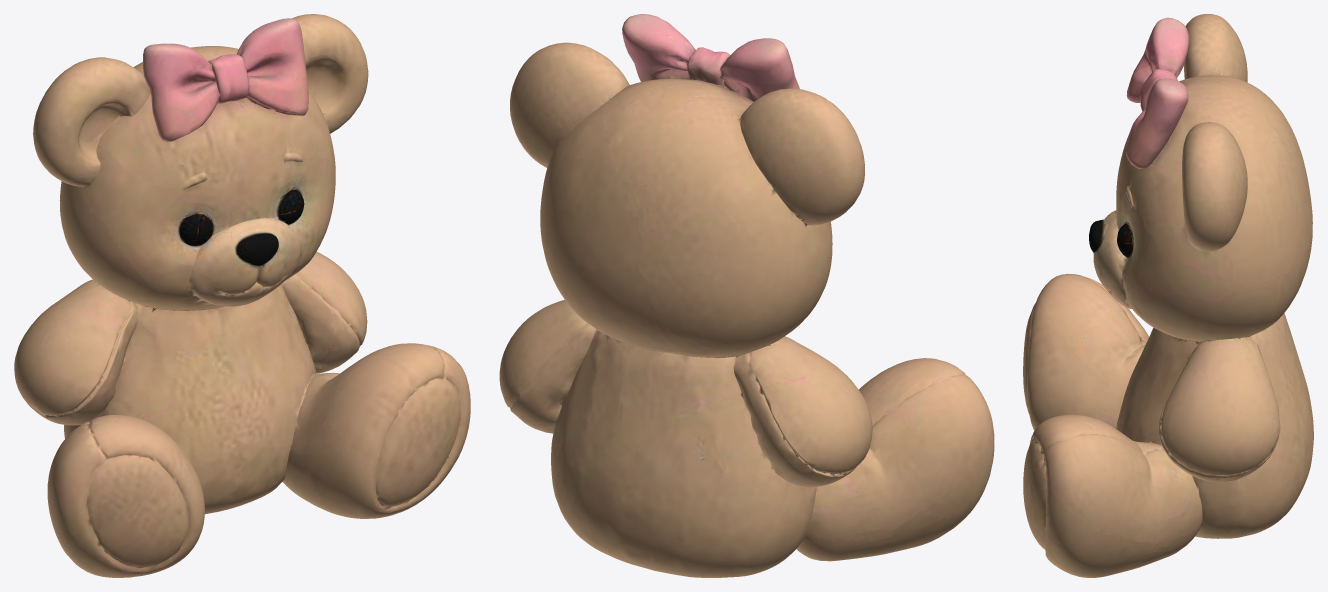
3 views of the same model, side by side, from view 1: azimuth 30°, elevation 25°; view 2: azimuth 150°, elevation 25°; view 3: azimuth 270°, elevation 25° (orthographic). The views are drawn at different scales.
Parts seen in each view (by area): view 1: Mesh; view 2: Mesh; view 3: Mesh.
Part boxes in pixels (x1,y1,x2,y2): Mesh: (14, 14, 470, 577); Mesh: (499, 14, 994, 577); Mesh: (1023, 14, 1313, 577).
Bounding box in the file's own units: 1.71 × 1.9 × 1.08.
Materials: 1 (1 with a texture image).
